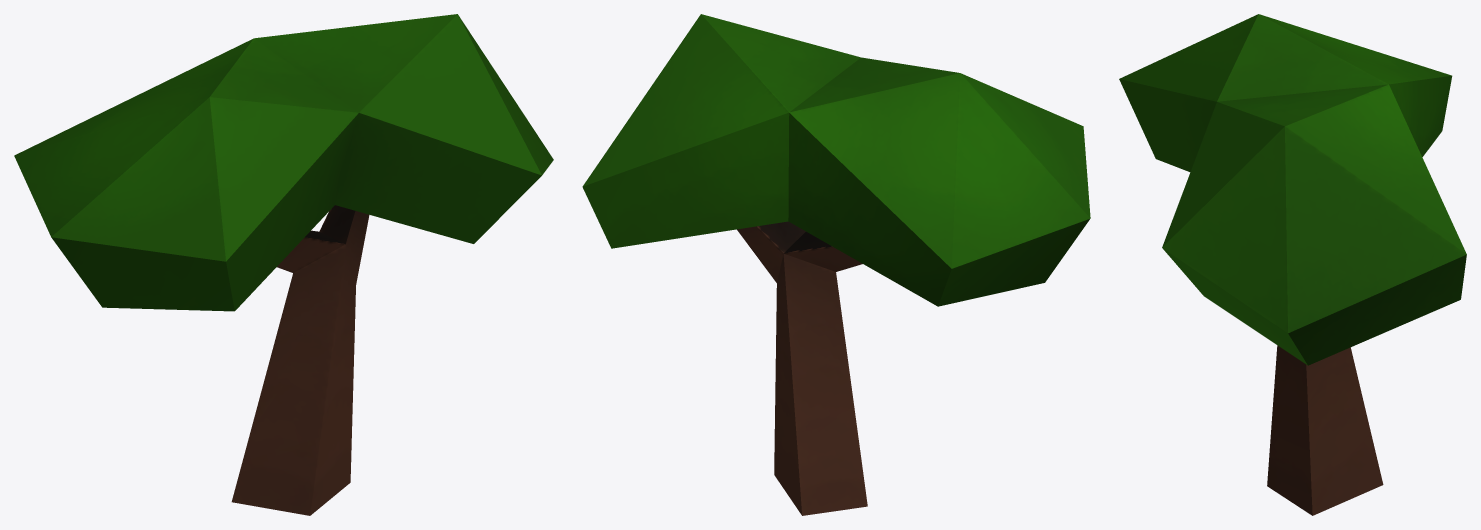
Rendered from Leave_tree_C5_01.FBX.
3 views of the same model, side by side, from view 1: azimuth 30°, elevation 25°; view 2: azimuth 150°, elevation 25°; view 3: azimuth 270°, elevation 25° (orthographic). The views are drawn at different scales.
Parts seen in each view (by area): view 1: Leave_tree_C5_01; view 2: Leave_tree_C5_01; view 3: Leave_tree_C5_01.
Part boxes in pixels (x1,y1,x2,y2): Leave_tree_C5_01: [14, 14, 553, 515]; Leave_tree_C5_01: [582, 14, 1090, 515]; Leave_tree_C5_01: [1119, 14, 1466, 515].
Size of the model in its own units: 53.18 by 33.3 by 45.66.
